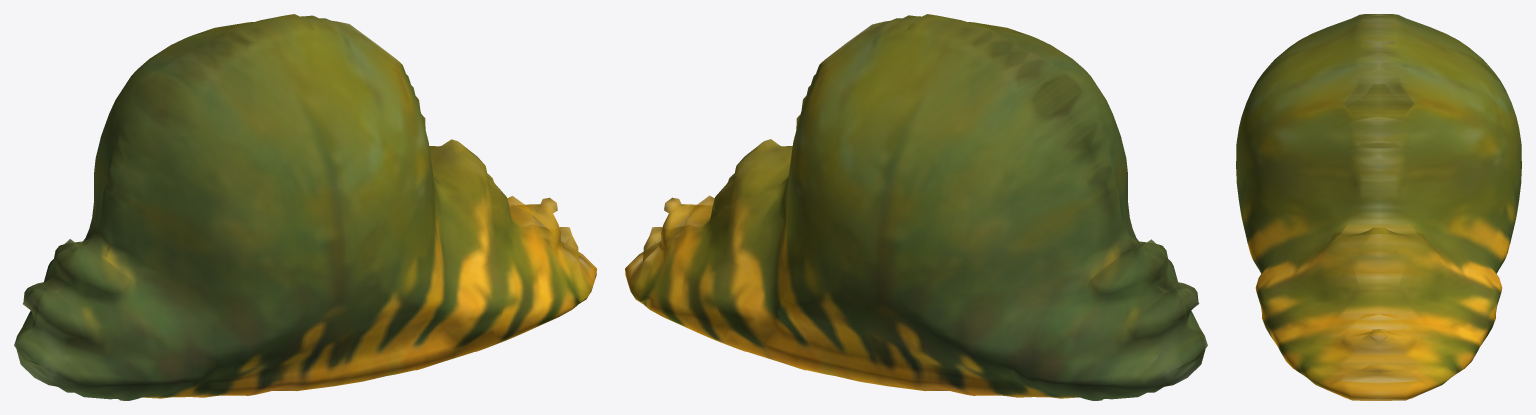
Rendered from 01_rocks_and_bushes_r02_c08.glb.
The picture shows the model from 3 angles, left to right: view 1: azimuth 30°, elevation 25°; view 2: azimuth 150°, elevation 25°; view 3: azimuth 270°, elevation 25°; orthographic projection. The views are drawn at different scales.
Parts seen in each view (by area): view 1: 01_rocks_and_bushes_r02_c08; view 2: 01_rocks_and_bushes_r02_c08; view 3: 01_rocks_and_bushes_r02_c08.
Part boxes in pixels (x1,y1,x2,y2): 01_rocks_and_bushes_r02_c08: [14, 14, 596, 400]; 01_rocks_and_bushes_r02_c08: [625, 14, 1207, 400]; 01_rocks_and_bushes_r02_c08: [1236, 14, 1521, 400].
Size of the model in its own units: 1.7 by 0.9801 by 0.9396.
Materials: 1 (1 with a texture image).
